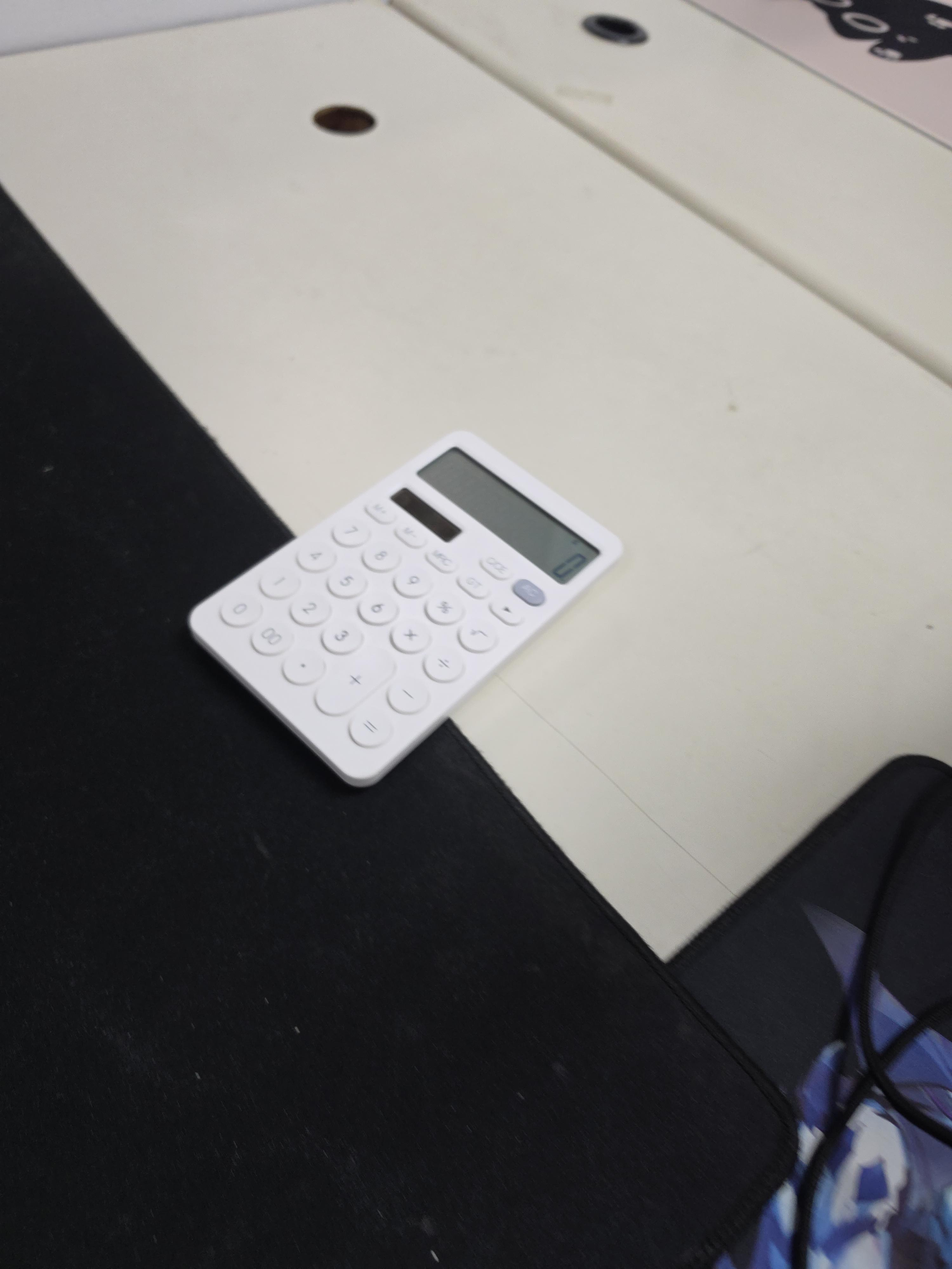calculator: (187, 429, 624, 786)
